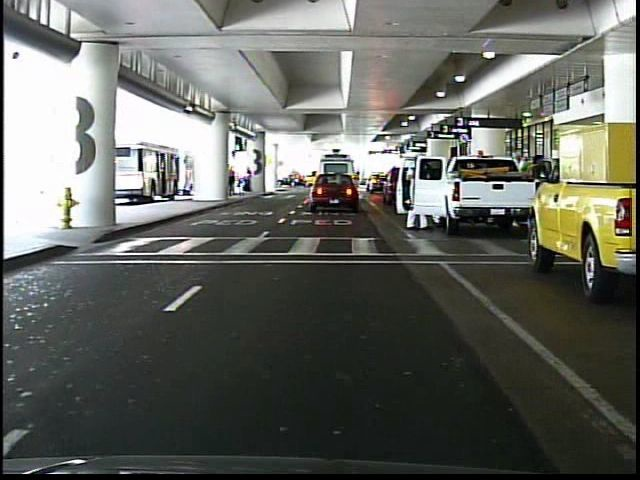person: (405, 150, 433, 233), (226, 163, 238, 198), (243, 165, 256, 195)
